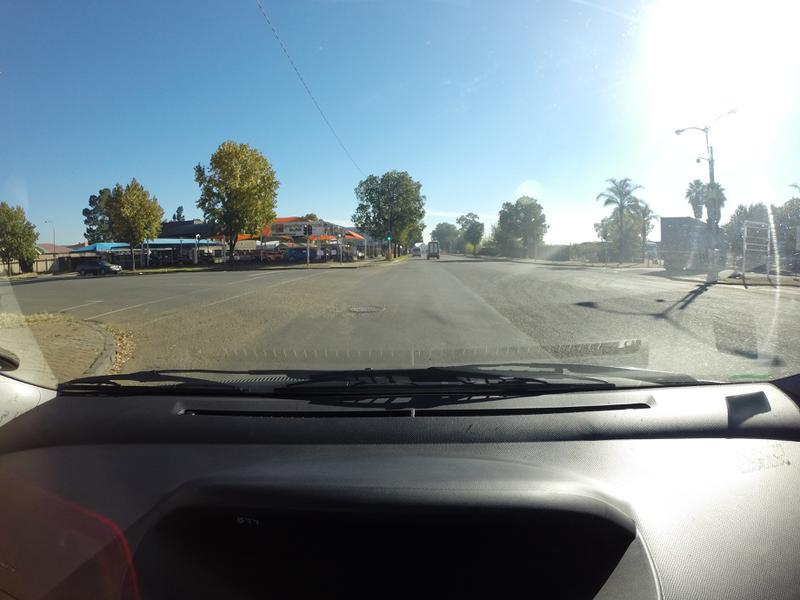pothole: (346, 302, 393, 315)
